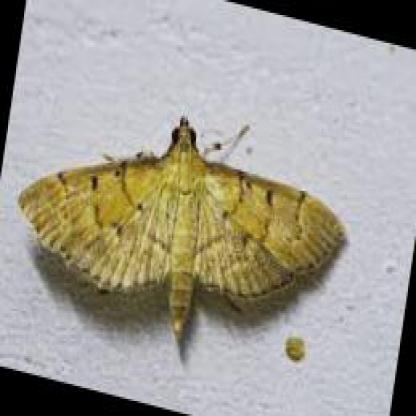Leaf Webber: (20, 115, 352, 348)
